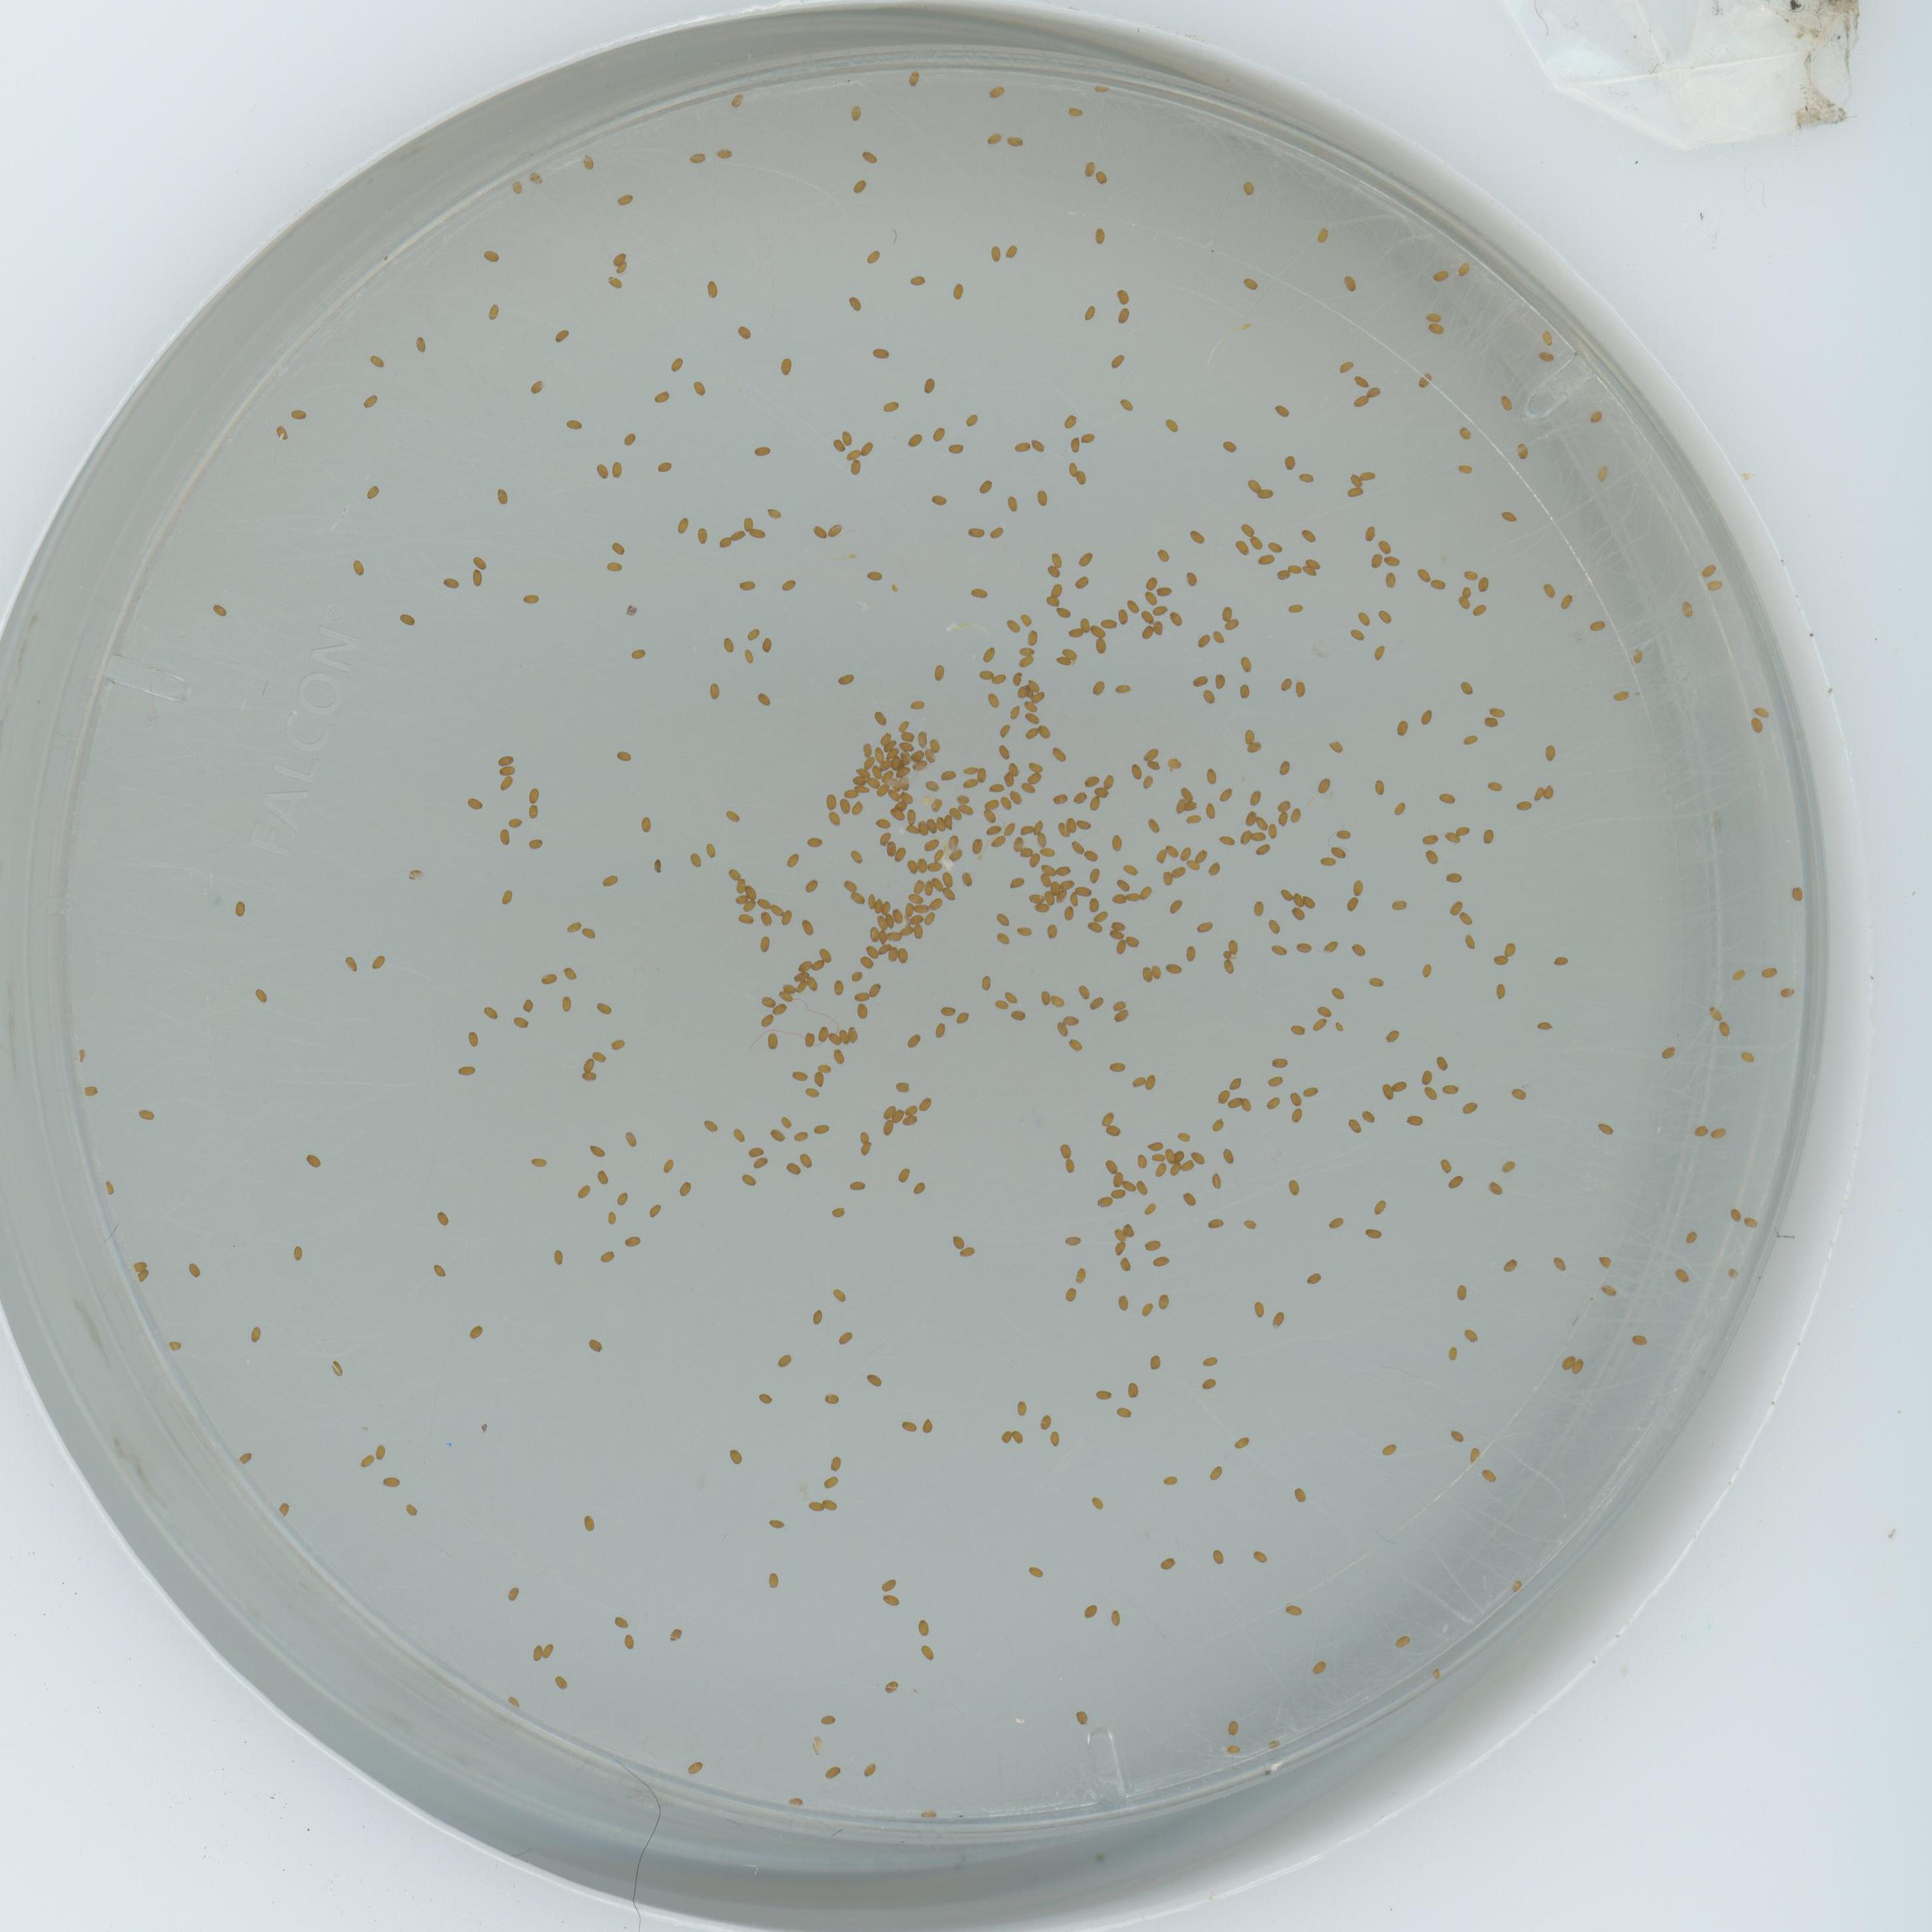seed: (847, 294, 869, 315), (579, 152, 598, 173), (341, 954, 361, 973), (617, 189, 637, 209), (872, 343, 893, 361), (1672, 1269, 1693, 1286), (1706, 577, 1727, 594), (329, 1355, 345, 1378), (1309, 1660, 1332, 1675), (881, 1575, 901, 1592), (1295, 936, 1315, 954), (1141, 1235, 1161, 1253), (1219, 957, 1238, 975), (1240, 179, 1258, 198), (778, 357, 794, 379), (136, 1106, 157, 1122), (1341, 272, 1357, 294), (1698, 564, 1720, 580), (674, 517, 692, 534), (840, 428, 858, 446), (920, 375, 938, 393), (467, 570, 485, 587), (525, 786, 543, 803), (230, 899, 248, 916), (368, 350, 386, 368), (372, 952, 389, 970), (554, 326, 571, 343), (757, 934, 775, 952), (610, 249, 628, 267), (786, 1159, 803, 1177), (456, 1060, 474, 1077), (304, 1150, 322, 1168), (727, 1447, 745, 1465), (552, 1674, 570, 1691), (849, 968, 867, 985), (1315, 778, 1332, 796), (1003, 494, 1021, 511), (1249, 899, 1267, 916), (1299, 525, 1316, 543), (1210, 628, 1228, 646), (1042, 922, 1060, 939), (1155, 582, 1173, 600), (1361, 524, 1378, 541), (1263, 916, 1281, 934), (1024, 755, 1042, 773), (1458, 678, 1476, 695), (1292, 679, 1309, 697), (1031, 488, 1049, 506), (1115, 310, 1132, 327), (1023, 628, 1040, 646), (1461, 932, 1479, 950), (1428, 320, 1445, 338), (1145, 1352, 1162, 1369), (1208, 1116, 1226, 1134), (1026, 1562, 1044, 1580), (1155, 1293, 1173, 1311), (961, 1242, 978, 1260), (1467, 1445, 1484, 1463), (1509, 1578, 1527, 1596), (1394, 1633, 1412, 1651), (1428, 1667, 1445, 1684), (607, 274, 625, 292), (690, 150, 708, 168), (846, 104, 863, 122), (99, 1178, 117, 1196), (837, 671, 856, 686), (497, 752, 517, 768), (915, 729, 931, 748), (591, 1047, 610, 1063), (865, 1371, 885, 1387), (288, 1244, 304, 1263), (1281, 453, 1300, 469), (1166, 610, 1185, 626), (1005, 133, 1024, 149), (1514, 442, 1530, 462), (1541, 329, 1557, 349), (1419, 372, 1435, 391), (1424, 310, 1444, 326), (1431, 267, 1451, 283), (1315, 226, 1330, 246), (987, 83, 1007, 99), (1090, 81, 1109, 97), (529, 168, 545, 188), (510, 177, 525, 196), (81, 1083, 101, 1099), (858, 149, 879, 163), (807, 833, 824, 849), (745, 625, 763, 640), (442, 573, 460, 589), (939, 768, 957, 784), (471, 554, 488, 570), (398, 610, 416, 626), (780, 577, 798, 593), (639, 816, 655, 833), (290, 405, 306, 423), (885, 396, 901, 414), (754, 442, 771, 458), (630, 646, 648, 662), (616, 747, 632, 764), (695, 525, 711, 543), (522, 591, 540, 607), (361, 391, 379, 407), (800, 918, 816, 936), (947, 441, 964, 456), (720, 637, 738, 653), (702, 281, 720, 297), (803, 879, 821, 895), (485, 303, 501, 320), (736, 324, 754, 340), (494, 487, 510, 504), (593, 462, 609, 479), (867, 248, 885, 264), (655, 387, 672, 403), (708, 683, 724, 701), (823, 793, 839, 810), (851, 179, 869, 195), (931, 663, 947, 681), (692, 379, 709, 395), (909, 695, 925, 713), (906, 432, 924, 448), (947, 847, 964, 863), (759, 911, 777, 927), (372, 1444, 389, 1460), (828, 1454, 844, 1472), (777, 1352, 794, 1368), (504, 1585, 522, 1601), (901, 1417, 918, 1433), (832, 1049, 849, 1065), (798, 1152, 816, 1168), (518, 996, 536, 1012), (893, 1077, 911, 1093), (883, 1592, 901, 1608), (740, 1171, 757, 1187), (747, 1141, 764, 1157), (849, 1175, 867, 1191), (759, 1012, 777, 1028), (832, 1286, 849, 1302), (382, 1474, 400, 1490), (812, 1118, 830, 1134), (915, 1617, 931, 1635), (764, 1031, 780, 1049), (433, 1208, 451, 1224), (186, 1260, 202, 1277), (793, 1065, 810, 1081), (550, 1247, 566, 1265), (1166, 897, 1184, 913), (1003, 617, 1021, 633), (1189, 672, 1207, 688), (1488, 702, 1506, 718), (1445, 870, 1463, 886), (1415, 566, 1433, 582), (1143, 745, 1161, 761), (1116, 395, 1134, 410), (996, 743, 1014, 759), (1272, 402, 1290, 418), (977, 478, 994, 494), (1461, 566, 1479, 582), (1286, 598, 1304, 614), (1012, 437, 1030, 453), (987, 782, 1005, 798), (1371, 780, 1389, 796), (1113, 288, 1131, 304), (1350, 941, 1368, 957), (1210, 672, 1228, 688), (1246, 789, 1263, 805), (970, 584, 987, 600), (1125, 764, 1143, 780), (1269, 941, 1286, 957), (1003, 241, 1021, 257), (1074, 883, 1092, 899), (1394, 720, 1412, 736), (1476, 577, 1493, 593), (987, 246, 1003, 264), (1187, 529, 1205, 545), (1076, 550, 1093, 566), (1205, 862, 1223, 878), (1276, 676, 1293, 692), (994, 911, 1012, 927), (1215, 787, 1233, 803), (1330, 844, 1348, 860), (1417, 709, 1435, 725), (980, 646, 996, 663), (1422, 851, 1440, 867), (1322, 936, 1339, 952), (1235, 683, 1253, 699), (1070, 573, 1088, 589), (1016, 610, 1033, 626), (1047, 747, 1065, 763), (1090, 226, 1108, 242), (1352, 373, 1369, 389), (1200, 690, 1217, 706), (1334, 826, 1352, 842), (1161, 416, 1178, 432), (968, 524, 985, 540), (1106, 835, 1123, 851), (1348, 879, 1366, 895), (1177, 786, 1194, 801), (1276, 888, 1293, 904), (1541, 745, 1559, 761), (1088, 679, 1106, 695), (1113, 681, 1131, 697), (1030, 437, 1047, 453), (1302, 893, 1320, 909), (1065, 626, 1083, 642), (1348, 626, 1366, 642), (1327, 740, 1345, 755), (1244, 476, 1261, 492), (1085, 869, 1102, 885), (1336, 357, 1353, 373), (959, 872, 977, 888), (1008, 837, 1026, 853), (1500, 510, 1518, 525), (1302, 1081, 1320, 1097), (1108, 1056, 1125, 1072), (1063, 1010, 1081, 1026), (1065, 1037, 1083, 1053), (1288, 1021, 1306, 1037), (1270, 1053, 1288, 1069), (1384, 1028, 1401, 1044), (1447, 1171, 1465, 1187), (1453, 1284, 1468, 1302), (1219, 1148, 1237, 1164), (1123, 1384, 1141, 1399), (1327, 1214, 1345, 1230), (1012, 1399, 1030, 1415), (1208, 1548, 1224, 1566), (1511, 1083, 1527, 1100), (1313, 1001, 1330, 1017), (1405, 1109, 1422, 1125), (1122, 1221, 1138, 1238), (1074, 984, 1092, 1000), (1364, 1224, 1382, 1240), (1070, 1269, 1088, 1284), (1095, 1192, 1113, 1208), (1060, 1284, 1077, 1300), (1284, 1178, 1300, 1196), (1417, 1069, 1435, 1085), (1054, 1143, 1072, 1159), (1378, 1083, 1394, 1100), (1106, 1612, 1123, 1628), (1214, 1086, 1230, 1104), (1047, 1431, 1063, 1449), (1552, 1258, 1569, 1274), (1134, 1178, 1150, 1196), (1207, 1463, 1223, 1481), (1382, 1440, 1398, 1458), (1097, 1109, 1115, 1125), (1481, 1465, 1497, 1483), (1283, 1601, 1300, 1617), (1488, 1180, 1506, 1196), (1152, 1162, 1169, 1178), (1559, 1355, 1576, 1371), (1660, 1046, 1677, 1062), (1739, 1049, 1757, 1065), (1716, 1021, 1734, 1037), (1706, 1007, 1723, 1023), (1760, 964, 1778, 980), (1778, 984, 1796, 1000), (1614, 688, 1629, 706), (1629, 649, 1645, 667), (1679, 600, 1695, 617), (1454, 594, 1472, 610), (1596, 464, 1612, 481), (1589, 409, 1605, 426), (1270, 1311, 1286, 1329), (862, 1762, 879, 1778), (920, 1806, 938, 1822), (667, 1628, 685, 1644), (715, 147, 732, 163), (906, 69, 922, 87), (504, 1695, 520, 1713), (274, 1502, 292, 1518), (235, 1449, 253, 1465), (166, 1338, 184, 1353), (272, 425, 288, 442), (948, 803, 962, 823), (607, 1208, 621, 1228), (830, 1030, 844, 1049), (1044, 566, 1063, 580), (1086, 623, 1106, 637), (1014, 655, 1033, 669), (1058, 646, 1077, 660), (1253, 1300, 1267, 1320), (1560, 593, 1575, 612), (1750, 717, 1764, 736), (1629, 1332, 1649, 1346), (855, 1131, 874, 1145), (1599, 1284, 1619, 1299), (1594, 1254, 1614, 1269), (1454, 262, 1474, 276), (407, 867, 426, 881), (1093, 1389, 1115, 1401), (1500, 393, 1513, 414), (1537, 350, 1559, 363), (931, 426, 947, 442), (364, 483, 380, 499), (566, 416, 582, 432), (740, 575, 755, 591), (867, 566, 883, 582), (704, 842, 720, 858), (525, 805, 541, 821), (874, 814, 890, 830), (874, 709, 890, 725), (467, 796, 483, 812), (844, 878, 860, 893), (911, 924, 927, 939), (497, 830, 513, 846), (412, 336, 428, 352), (501, 888, 517, 904), (483, 246, 499, 262), (529, 379, 545, 395), (738, 909, 754, 925), (610, 540, 626, 556), (688, 853, 704, 869), (780, 909, 796, 925), (786, 853, 801, 869), (909, 271, 925, 287), (607, 559, 623, 575), (759, 637, 775, 653), (656, 456, 672, 472), (651, 858, 667, 874), (849, 849, 865, 865), (851, 800, 867, 816), (566, 918, 582, 934), (950, 283, 966, 299), (931, 492, 947, 508), (867, 925, 883, 941), (350, 559, 366, 575), (929, 796, 945, 812), (904, 858, 920, 874), (725, 809, 741, 824), (766, 504, 782, 520), (817, 948, 833, 964), (432, 1261, 448, 1277), (895, 1168, 911, 1184), (513, 1014, 529, 1030), (614, 1189, 630, 1205), (918, 1417, 934, 1433), (483, 1005, 499, 1021), (824, 1474, 840, 1490), (253, 987, 269, 1003), (540, 971, 556, 987), (469, 1322, 485, 1338), (648, 1201, 663, 1217), (596, 1000, 612, 1016), (911, 1178, 927, 1194), (906, 1031, 922, 1047), (832, 978, 847, 994), (932, 1023, 948, 1039), (678, 1182, 694, 1198), (589, 1141, 605, 1157), (704, 1116, 720, 1132), (246, 1325, 262, 1341), (403, 1500, 419, 1516), (563, 966, 579, 982), (770, 1514, 786, 1530), (869, 982, 885, 998), (625, 1231, 640, 1247), (621, 1633, 637, 1649), (596, 1169, 612, 1185), (612, 1614, 628, 1629), (810, 1309, 826, 1325), (580, 1516, 596, 1532), (587, 1336, 603, 1352), (800, 1033, 816, 1049), (766, 1571, 782, 1587), (731, 1127, 747, 1143), (357, 1453, 373, 1468), (662, 1157, 678, 1173), (950, 1233, 966, 1249), (778, 1113, 794, 1129), (824, 1389, 840, 1405), (557, 996, 573, 1012), (860, 1141, 876, 1157), (465, 1030, 481, 1046), (812, 1069, 828, 1085), (826, 1764, 842, 1780), (879, 1104, 895, 1120), (1008, 671, 1024, 686), (1382, 571, 1398, 587), (1355, 610, 1371, 626), (1345, 897, 1361, 913), (1288, 906, 1304, 922), (1481, 828, 1497, 844), (1196, 918, 1212, 934), (1122, 862, 1138, 878), (1430, 577, 1445, 593), (1203, 770, 1219, 786), (1391, 895, 1407, 911), (1238, 520, 1254, 536), (1438, 789, 1454, 805), (989, 524, 1005, 540), (1320, 855, 1336, 870), (989, 833, 1005, 849), (1054, 605, 1070, 621), (1081, 304, 1097, 320), (1221, 437, 1237, 453), (1001, 821, 1017, 837), (1083, 773, 1099, 789), (1422, 832, 1438, 847), (1472, 602, 1488, 617), (1288, 807, 1304, 823), (1141, 589, 1157, 605), (1060, 906, 1076, 922), (1366, 384, 1382, 400), (1062, 412, 1077, 428), (970, 839, 985, 855), (1276, 761, 1292, 777), (966, 412, 982, 428), (1458, 911, 1474, 927), (1092, 639, 1108, 655), (1376, 538, 1392, 554), (977, 667, 993, 683), (1237, 656, 1253, 672), (1051, 791, 1067, 807), (1376, 607, 1392, 623), (1201, 803, 1217, 819), (1237, 830, 1253, 846), (1182, 947, 1198, 962), (1541, 582, 1557, 598), (1076, 817, 1092, 833), (994, 929, 1010, 945), (1502, 941, 1518, 957), (1217, 605, 1233, 621), (1141, 575, 1157, 591), (1242, 274, 1258, 290), (1194, 847, 1210, 863), (1240, 810, 1256, 826), (1589, 617, 1605, 633), (1092, 168, 1108, 184), (1079, 161, 1095, 177), (1139, 775, 1155, 791), (1125, 598, 1141, 614), (1023, 725, 1039, 741), (1207, 1173, 1223, 1189), (1180, 1189, 1196, 1205), (1081, 1603, 1097, 1619), (1003, 987, 1019, 1003), (1159, 1555, 1175, 1571), (1433, 1054, 1449, 1070), (1201, 1352, 1217, 1368), (1233, 1433, 1249, 1449), (1442, 1079, 1458, 1095), (1115, 1403, 1131, 1419), (1361, 1108, 1376, 1123), (1207, 1214, 1223, 1230), (1129, 1072, 1145, 1088), (1226, 1074, 1242, 1090), (1463, 1325, 1479, 1341), (1292, 1486, 1307, 1502), (1346, 1118, 1362, 1134), (1115, 1295, 1131, 1311), (1445, 1345, 1461, 1361), (1102, 1157, 1118, 1173), (1371, 1198, 1387, 1214), (1088, 1495, 1104, 1511), (1242, 1215, 1258, 1231), (1267, 1072, 1283, 1088), (1392, 1077, 1408, 1093), (1138, 1300, 1154, 1316), (1037, 1414, 1053, 1430), (1493, 984, 1509, 1000), (1060, 1157, 1076, 1173), (1141, 1200, 1157, 1215), (1306, 1269, 1322, 1284), (1438, 1155, 1454, 1171), (1253, 1548, 1269, 1564), (1191, 1150, 1207, 1166), (1053, 1021, 1069, 1037), (998, 1428, 1014, 1444), (1502, 1256, 1518, 1272), (1224, 1720, 1240, 1736), (1598, 1118, 1614, 1134), (1240, 1097, 1256, 1113), (1684, 1228, 1700, 1244), (1693, 1122, 1709, 1138), (1500, 1159, 1516, 1175), (1743, 1214, 1759, 1230), (1730, 968, 1746, 984), (1789, 888, 1805, 904), (1224, 1743, 1240, 1759), (1145, 759, 1161, 775), (1166, 755, 1182, 771), (885, 1679, 901, 1695), (787, 1794, 803, 1810), (688, 1760, 704, 1776), (810, 957, 826, 973), (904, 823, 920, 839), (729, 92, 745, 108), (211, 603, 228, 617), (602, 874, 619, 888), (506, 816, 524, 830), (812, 524, 830, 538), (892, 908, 906, 925), (727, 865, 741, 883), (849, 892, 867, 906), (947, 833, 961, 851), (499, 764, 517, 778), (939, 1001, 957, 1016), (529, 1644, 543, 1661), (770, 1127, 787, 1141), (881, 1120, 895, 1138), (837, 1330, 855, 1345), (752, 1155, 770, 1169), (529, 1154, 547, 1168), (807, 1499, 824, 1513), (575, 1185, 593, 1200), (793, 1129, 810, 1143), (855, 1003, 872, 1017), (131, 1258, 149, 1272), (807, 975, 821, 993), (902, 1115, 920, 1129), (1014, 924, 1031, 938), (1180, 571, 1198, 586), (1123, 934, 1141, 948), (1008, 876, 1026, 890), (1352, 393, 1369, 407), (1253, 844, 1270, 858), (1460, 732, 1477, 747), (1024, 771, 1042, 786), (985, 694, 1003, 708), (1491, 952, 1509, 966), (1113, 878, 1131, 892), (1384, 554, 1401, 568), (1297, 469, 1315, 483), (1483, 715, 1500, 729), (1145, 819, 1162, 833), (1217, 833, 1235, 847), (1086, 920, 1104, 934), (1159, 870, 1173, 888), (1265, 540, 1283, 554), (1042, 594, 1060, 609), (1444, 832, 1461, 846), (1178, 844, 1192, 862), (1224, 939, 1242, 954), (1288, 893, 1306, 908), (1173, 798, 1187, 816), (982, 796, 1000, 810), (957, 803, 975, 817), (1460, 1099, 1477, 1113), (1263, 1095, 1281, 1109), (1286, 1092, 1304, 1106), (1309, 1017, 1327, 1031), (1161, 1472, 1178, 1486), (1421, 1085, 1438, 1099), (1136, 1152, 1150, 1169), (1111, 1008, 1129, 1023), (1421, 961, 1435, 978), (1166, 961, 1184, 975), (1086, 996, 1104, 1010), (1139, 964, 1154, 982), (1120, 1178, 1138, 1192), (1729, 1205, 1743, 1223), (954, 794, 971, 809), (985, 133, 1003, 147), (911, 759, 929, 773), (610, 460, 623, 479), (839, 1026, 851, 1046), (1109, 918, 1129, 931), (1054, 655, 1074, 667), (1063, 1235, 1083, 1247), (855, 768, 874, 780), (925, 837, 941, 851), (830, 439, 846, 453), (849, 462, 865, 476), (621, 432, 637, 446), (499, 777, 515, 791), (862, 441, 876, 456), (527, 837, 543, 851), (669, 357, 685, 372), (901, 791, 916, 805), (906, 809, 920, 824), (757, 692, 773, 706), (839, 798, 853, 814), (826, 812, 842, 826), (741, 649, 755, 665), (750, 527, 766, 541), (941, 888, 957, 902), (878, 832, 893, 846), (897, 718, 913, 732), (846, 448, 862, 462), (941, 872, 957, 886), (924, 911, 939, 925), (929, 858, 943, 874), (929, 897, 945, 911), (929, 738, 943, 754), (908, 892, 924, 906), (860, 955, 876, 970), (932, 847, 947, 863), (771, 901, 786, 916), (911, 878, 925, 893), (761, 993, 777, 1007), (610, 1035, 626, 1049), (759, 1389, 775, 1403), (853, 987, 869, 1001), (821, 1713, 837, 1727), (600, 1247, 616, 1261), (775, 1001, 791, 1016), (543, 1644, 557, 1660), (918, 1097, 934, 1111), (816, 1026, 830, 1042), (623, 1132, 639, 1146), (920, 1645, 936, 1660), (823, 1497, 839, 1511), (832, 1203, 847, 1217), (134, 1267, 150, 1281), (580, 1058, 596, 1072), (904, 1100, 918, 1116), (955, 1010, 971, 1024), (1345, 472, 1361, 487), (1083, 849, 1099, 863), (1368, 554, 1384, 568), (1359, 467, 1375, 481), (1047, 582, 1063, 596), (1035, 725, 1051, 740), (1070, 791, 1086, 805), (1516, 798, 1532, 812), (1454, 823, 1470, 837), (1005, 706, 1021, 720), (1079, 430, 1095, 444), (1258, 554, 1274, 568), (1194, 633, 1210, 648), (1069, 840, 1085, 855), (991, 672, 1007, 686), (998, 724, 1012, 740), (1086, 798, 1102, 812), (1249, 536, 1265, 550), (1109, 893, 1125, 908), (1085, 897, 1100, 911), (1184, 814, 1200, 828), (1276, 798, 1292, 812), (1099, 614, 1115, 628), (1138, 610, 1154, 625), (1391, 801, 1407, 816), (1486, 778, 1502, 793), (1238, 729, 1254, 743), (1108, 354, 1123, 368), (1346, 487, 1362, 501), (1258, 487, 1274, 501), (1371, 646, 1387, 660), (1458, 425, 1472, 441), (1244, 741, 1260, 755), (1152, 603, 1168, 617), (1224, 617, 1240, 632), (1100, 773, 1116, 787), (1253, 816, 1267, 832), (1138, 886, 1154, 901), (1543, 784, 1557, 800), (1023, 711, 1039, 725), (1449, 901, 1463, 916), (1017, 823, 1033, 837), (1039, 846, 1054, 860), (1152, 849, 1168, 863), (1164, 842, 1178, 858), (1008, 791, 1024, 805), (1028, 890, 1044, 904), (1026, 855, 1042, 869), (1065, 892, 1081, 906), (980, 809, 996, 823), (1235, 540, 1249, 556), (1005, 761, 1021, 775), (1530, 786, 1545, 801), (1109, 927, 1125, 941), (1077, 616, 1092, 632), (1072, 471, 1088, 485), (1000, 773, 1016, 787), (1067, 104, 1083, 119), (1458, 460, 1474, 474), (1306, 557, 1322, 571), (1033, 832, 1047, 847), (1054, 821, 1069, 837), (1330, 985, 1346, 1000), (1010, 1008, 1026, 1023), (1368, 975, 1384, 989), (1288, 1108, 1304, 1122), (1449, 1428, 1465, 1442), (1116, 1256, 1132, 1270), (1145, 1074, 1159, 1090), (1152, 1253, 1168, 1267), (1148, 1138, 1164, 1152), (1111, 1240, 1127, 1254), (1200, 1375, 1215, 1389), (1104, 1122, 1120, 1136), (1049, 994, 1065, 1008), (1175, 1127, 1191, 1141), (1228, 1095, 1242, 1111), (1074, 1711, 1090, 1725), (1162, 1146, 1177, 1162), (1108, 1173, 1123, 1187), (1536, 1017, 1552, 1031), (1168, 1162, 1184, 1177), (1725, 1265, 1739, 1281), (916, 821, 931, 837), (890, 809, 906, 823), (899, 775, 913, 791), (924, 748, 938, 764), (74, 1047, 88, 1063), (924, 780, 941, 793), (734, 878, 747, 895), (796, 959, 814, 971), (803, 1086, 821, 1099), (847, 1026, 860, 1044), (778, 991, 796, 1003), (1552, 954, 1569, 966), (1092, 909, 1109, 922), (1069, 437, 1081, 455), (975, 766, 987, 784), (1065, 817, 1077, 835), (1109, 998, 1127, 1010), (1753, 708, 1771, 720), (1711, 1127, 1729, 1139), (886, 947, 899, 964), (925, 817, 938, 835), (1014, 646, 1033, 656), (1573, 1359, 1583, 1378), (718, 536, 732, 550), (582, 925, 596, 939), (741, 517, 755, 531), (879, 732, 893, 747), (757, 895, 771, 909), (897, 948, 911, 962), (745, 885, 759, 899), (915, 860, 929, 874), (734, 892, 748, 906), (1049, 550, 1063, 564), (998, 796, 1012, 810), (1265, 824, 1279, 839), (1171, 865, 1185, 879), (1014, 685, 1028, 699), (1031, 821, 1046, 835), (1033, 690, 1047, 704), (980, 977, 994, 991), (1037, 991, 1051, 1005), (1012, 1430, 1026, 1444), (1111, 1228, 1125, 1242), (1178, 1157, 1192, 1171), (1265, 1737, 1279, 1752), (876, 782, 890, 796), (888, 789, 902, 803), (731, 527, 747, 540), (885, 842, 897, 858), (862, 757, 878, 770), (909, 913, 925, 925), (874, 748, 886, 764), (879, 770, 895, 782), (1274, 570, 1290, 582), (1116, 609, 1129, 625), (1154, 548, 1169, 561), (1054, 863, 1070, 876), (1093, 786, 1109, 798), (1152, 621, 1164, 637), (1286, 561, 1302, 573), (1065, 462, 1077, 478), (1185, 860, 1201, 872), (1062, 879, 1077, 892), (1123, 892, 1139, 904), (1109, 1187, 1125, 1200), (993, 998, 1008, 1010), (1150, 1152, 1166, 1164), (1152, 964, 1164, 980), (1332, 1017, 1345, 1033), (1054, 890, 1067, 906), (876, 913, 888, 929), (865, 893, 878, 909), (902, 902, 915, 918), (867, 777, 883, 789), (895, 766, 911, 778), (870, 764, 883, 780), (883, 901, 893, 918), (793, 971, 810, 982), (909, 752, 927, 763), (897, 741, 915, 752), (936, 816, 947, 833), (895, 847, 908, 862), (844, 787, 858, 800), (924, 881, 936, 895), (915, 902, 929, 915), (863, 945, 878, 957), (582, 1070, 596, 1083), (892, 1109, 904, 1123), (1040, 863, 1054, 876), (1138, 626, 1152, 639), (1039, 874, 1051, 888), (1023, 701, 1037, 713), (1253, 830, 1265, 844), (1113, 941, 1127, 954), (1019, 847, 1033, 860), (614, 262, 628, 274), (1302, 564, 1316, 577), (1028, 679, 1040, 694), (782, 982, 796, 994), (794, 980, 807, 994), (885, 915, 897, 929), (872, 899, 885, 913), (901, 925, 915, 938), (893, 800, 908, 812), (890, 777, 902, 791), (962, 768, 982, 777), (895, 766, 911, 777), (817, 1062, 833, 1072), (1033, 904, 1049, 915), (1276, 812, 1286, 828), (1044, 890, 1054, 906), (962, 778, 978, 789), (878, 945, 893, 955), (1021, 782, 1037, 793), (945, 816, 955, 832), (855, 784, 870, 794), (883, 740, 899, 750), (886, 932, 904, 941), (851, 777, 869, 786), (1460, 586, 1472, 598), (886, 748, 899, 761), (1184, 800, 1196, 812), (1175, 1150, 1187, 1162), (862, 741, 872, 755), (901, 731, 915, 741), (743, 901, 757, 911), (985, 826, 1000, 837), (899, 750, 909, 764), (879, 761, 893, 771), (1051, 881, 1060, 897), (878, 931, 890, 941), (892, 757, 902, 770), (1221, 948, 1231, 961)
